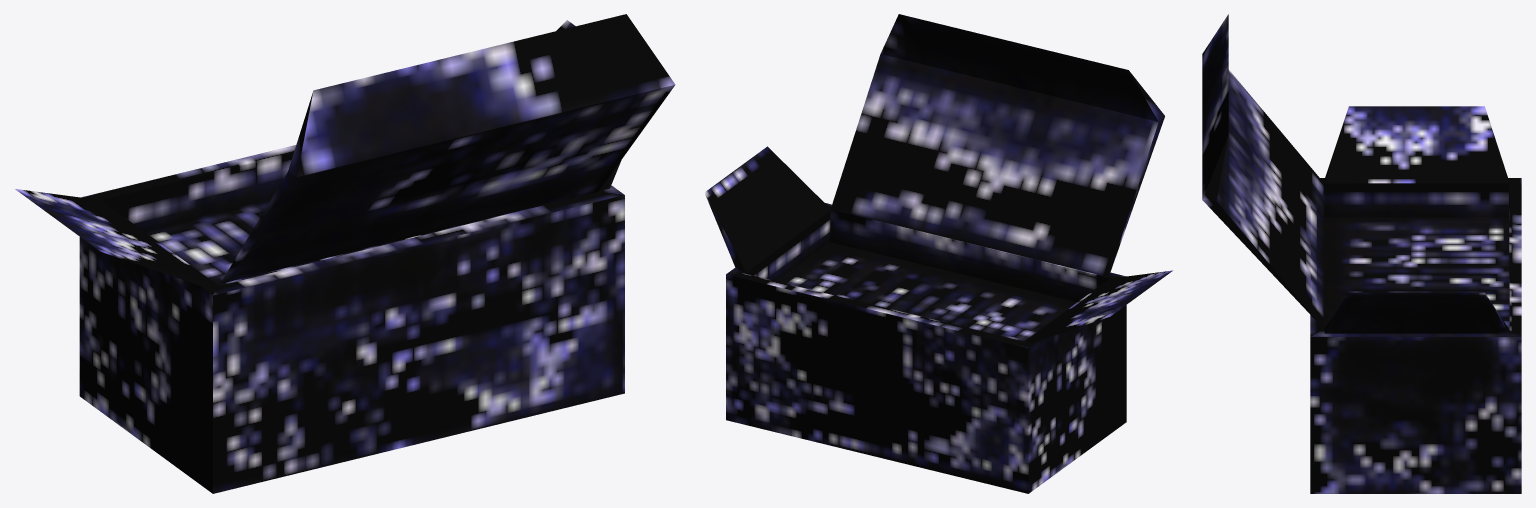
File: BulletBox.gltf
The picture shows the model from 3 angles, left to right: view 1: azimuth 30°, elevation 25°; view 2: azimuth 150°, elevation 25°; view 3: azimuth 270°, elevation 25°; orthographic projection. The views are drawn at different scales.
Visible parts, largest first — view 1: BulletBox; view 2: BulletBox; view 3: BulletBox.
Boxes of the visible parts, x1,y1,x2,y2 form: BulletBox: (15,14,675,493); BulletBox: (704,14,1172,493); BulletBox: (1202,14,1521,493).
Bounding box in the file's own units: 0.34 × 0.2525 × 0.2149.
Materials: 1 (1 with a texture image).
